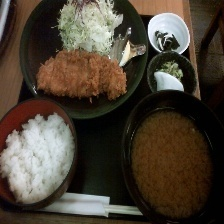rice: (53, 0, 129, 54)
